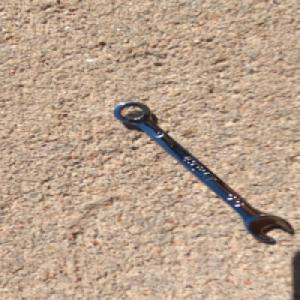Wrench: (110, 100, 297, 243)
